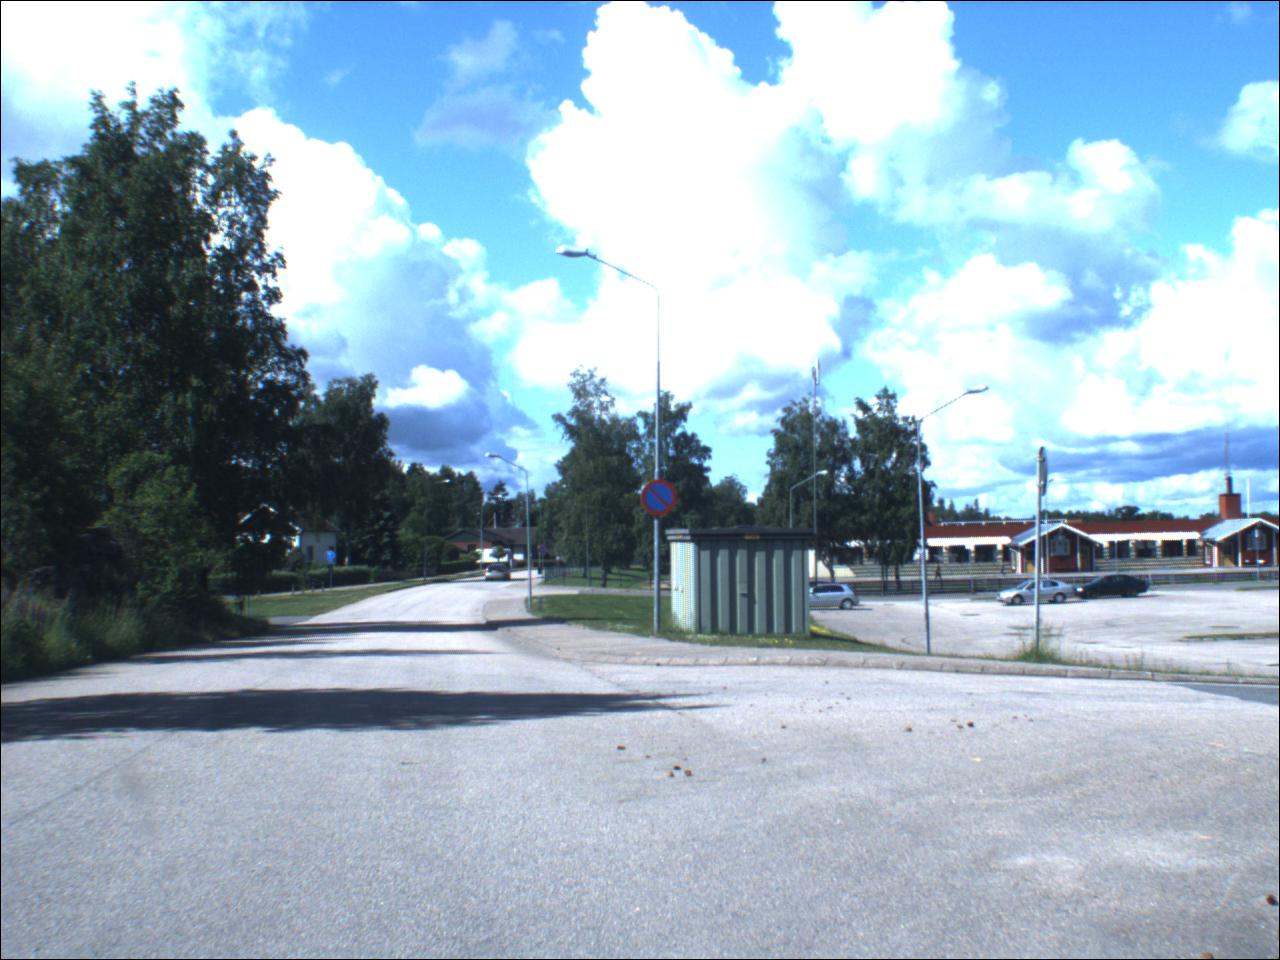NO_PARKING: (638, 474, 683, 523)
